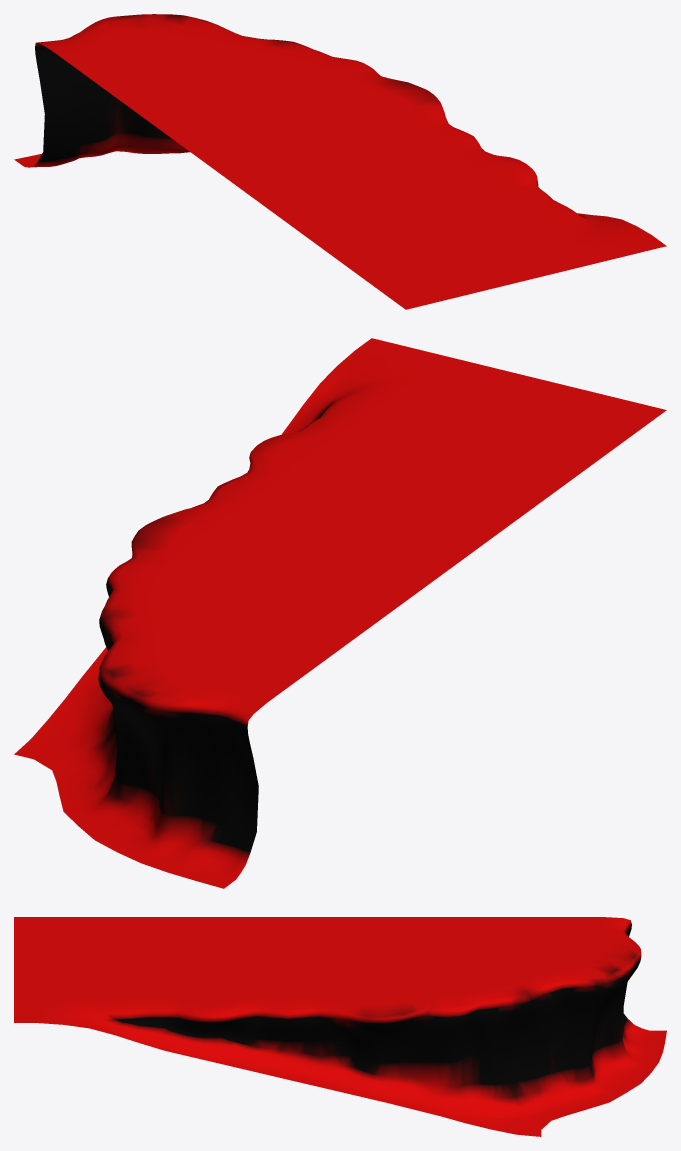
The model's file is ClimbCliff01B 1M Foreground.fbx.
The picture shows the model from 3 angles, top to bottom: view 1: azimuth 30°, elevation 25°; view 2: azimuth 150°, elevation 25°; view 3: azimuth 270°, elevation 25°; orthographic projection. The views are drawn at different scales.
Parts seen in each view (by area): view 1: ClimbCliff01B 1M Foreground; view 2: ClimbCliff01B 1M Foreground; view 3: ClimbCliff01B 1M Foreground.
Boxes of the visible parts, x1,y1,x2,y2 form: ClimbCliff01B 1M Foreground: [14, 14, 666, 309]; ClimbCliff01B 1M Foreground: [14, 338, 666, 888]; ClimbCliff01B 1M Foreground: [14, 917, 666, 1136].
Size of the model in its own units: 2 by 1 by 5.2.
